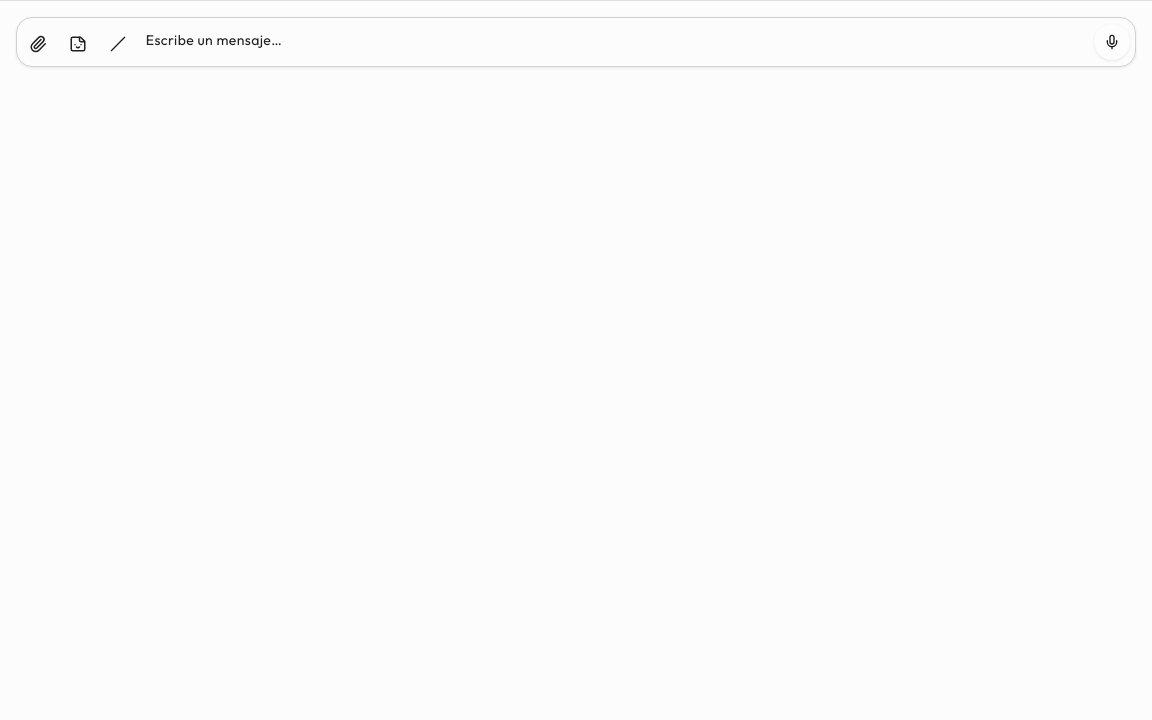
Test: Composer › stickers › explains where stickers come from when there are none yet
Click the button named "Stickers" at (78, 44), box [62,28,94,60]
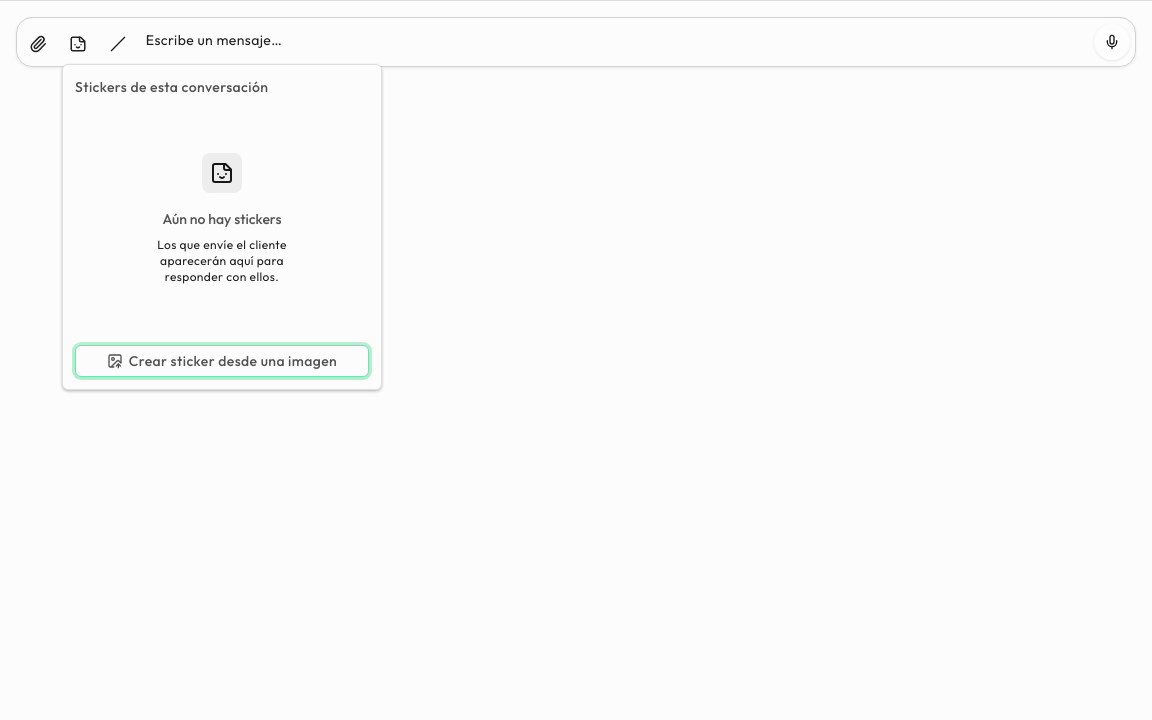
Expected: the text "Aún no hay stickers" is shown, [162,209,281,229]
